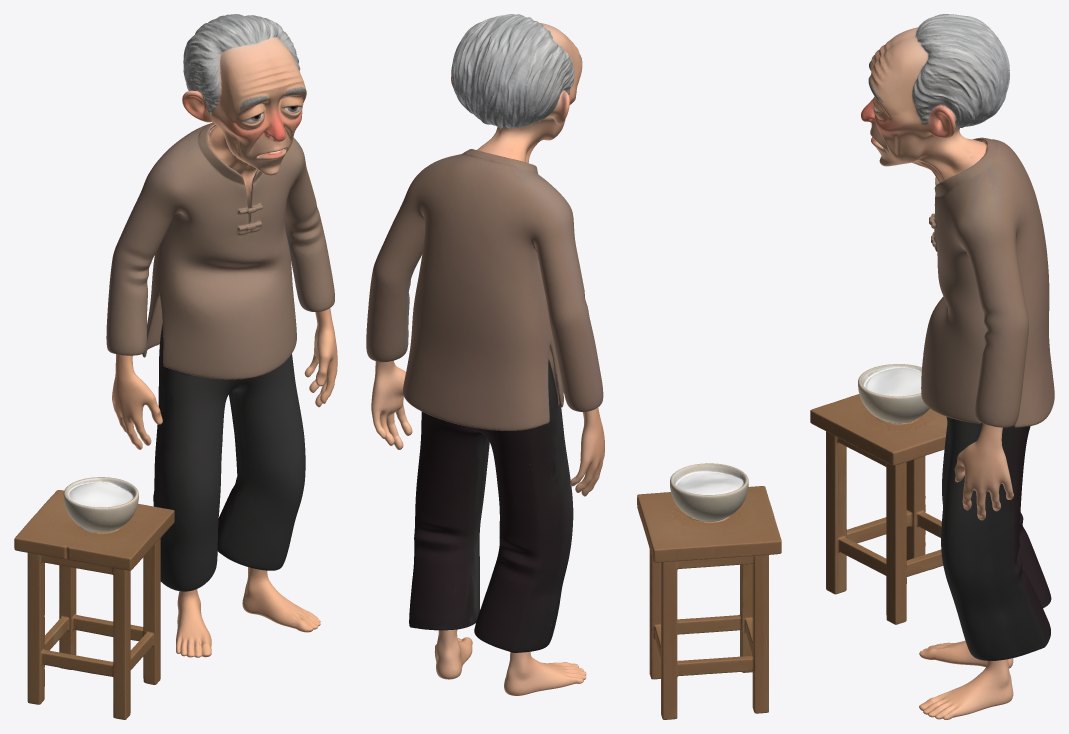
The model's file is kasus 1.glb.
The picture shows the model from 3 angles, left to right: view 1: azimuth 30°, elevation 25°; view 2: azimuth 150°, elevation 25°; view 3: azimuth 270°, elevation 25°; orthographic projection. The views are drawn at different scales.
Size of the model in its own units: 1.14 by 1.9 by 0.6347.
Materials: 1 (1 with a texture image).
